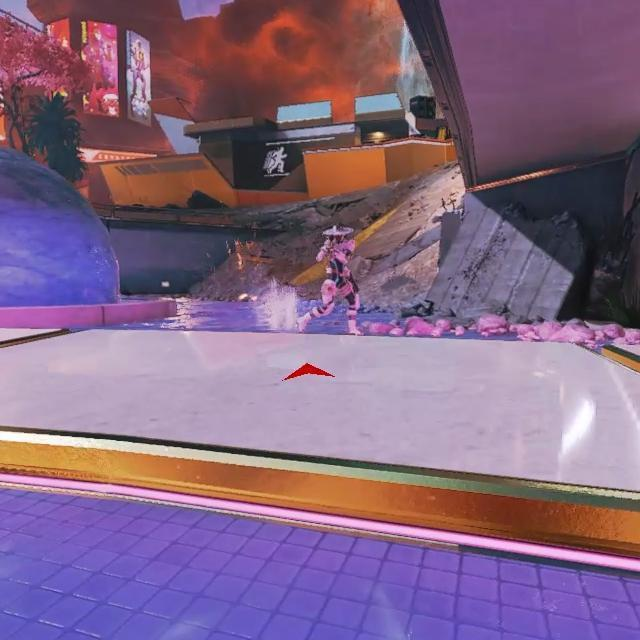avatar: (317, 226, 361, 335)
